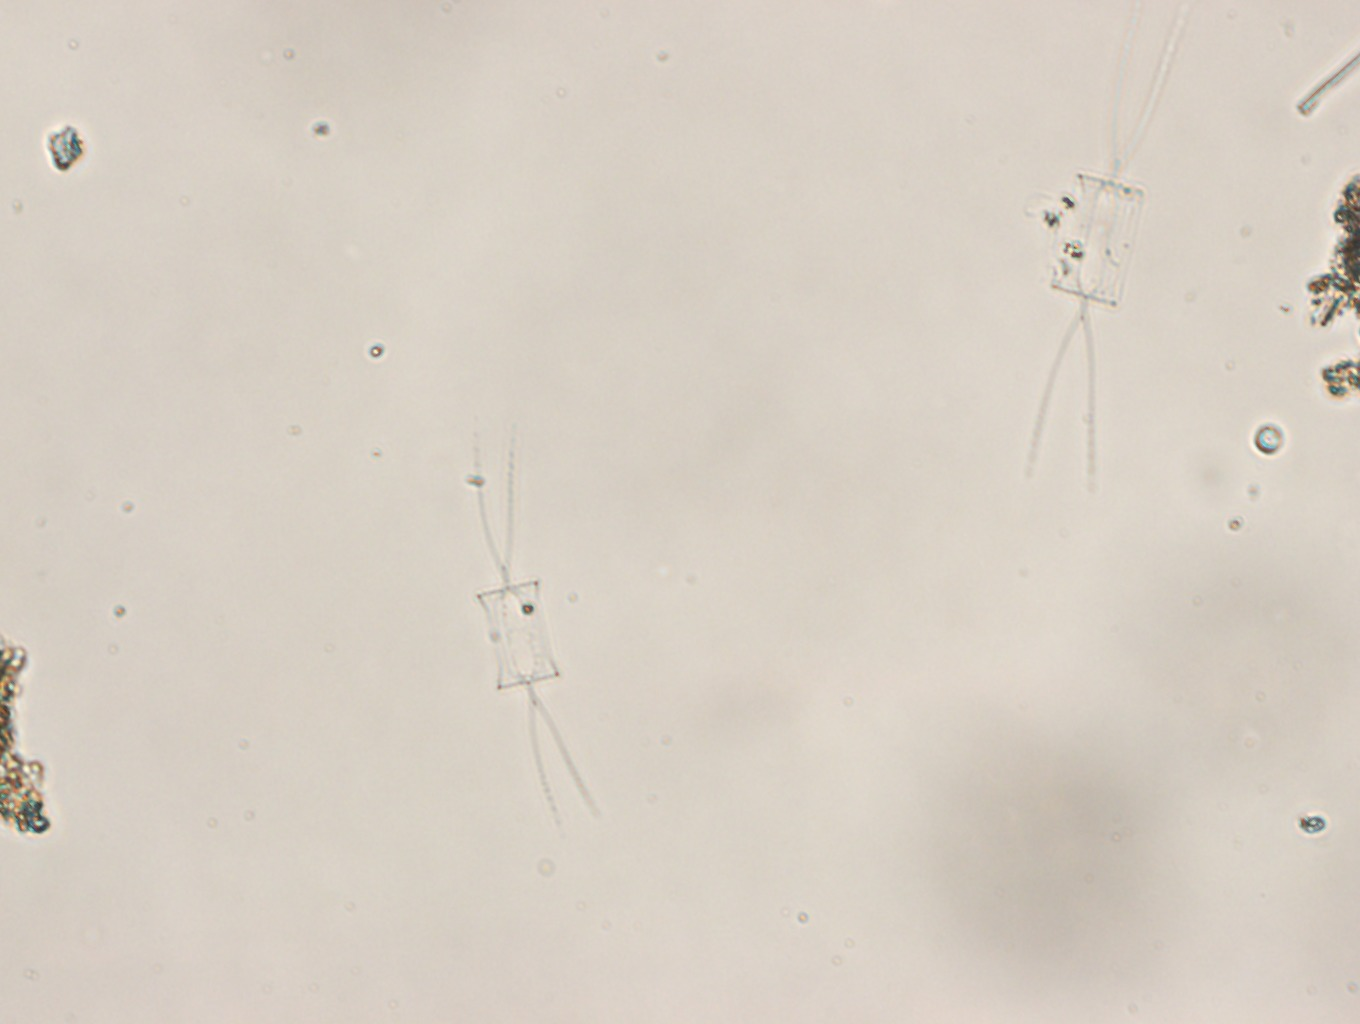chaetoceros: (1021, 3, 1191, 493), (467, 418, 609, 831)
